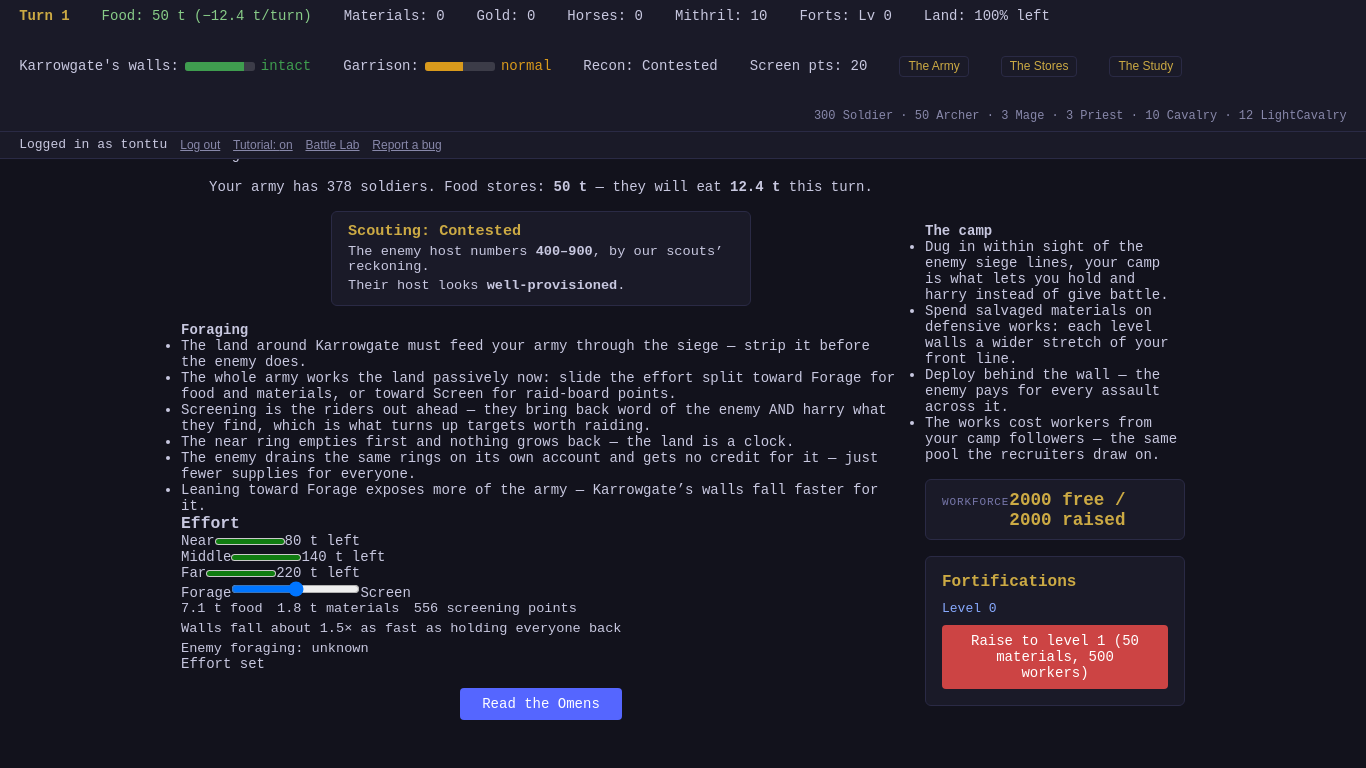
raid panel — opportunities › says nothing about the fate while the augury still withholds it
The image size is (1366, 768).
(page scrolled)
Click the button with test id "to-omens". click: (541, 704)
box: x1=460 y1=688 x2=622 y2=720
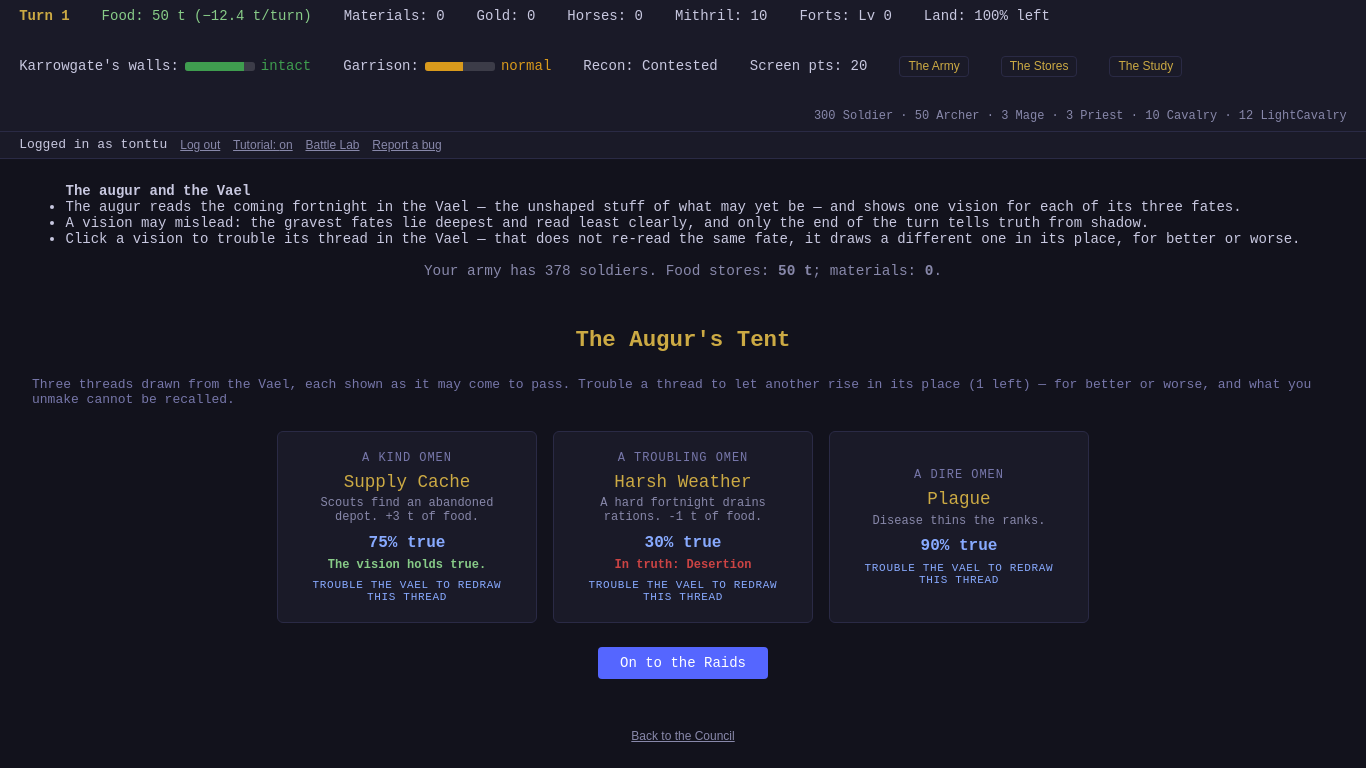
Click the button with test id "augury-continue". click: (683, 663)
box: x1=598 y1=647 x2=768 y2=679
(page scrolled)
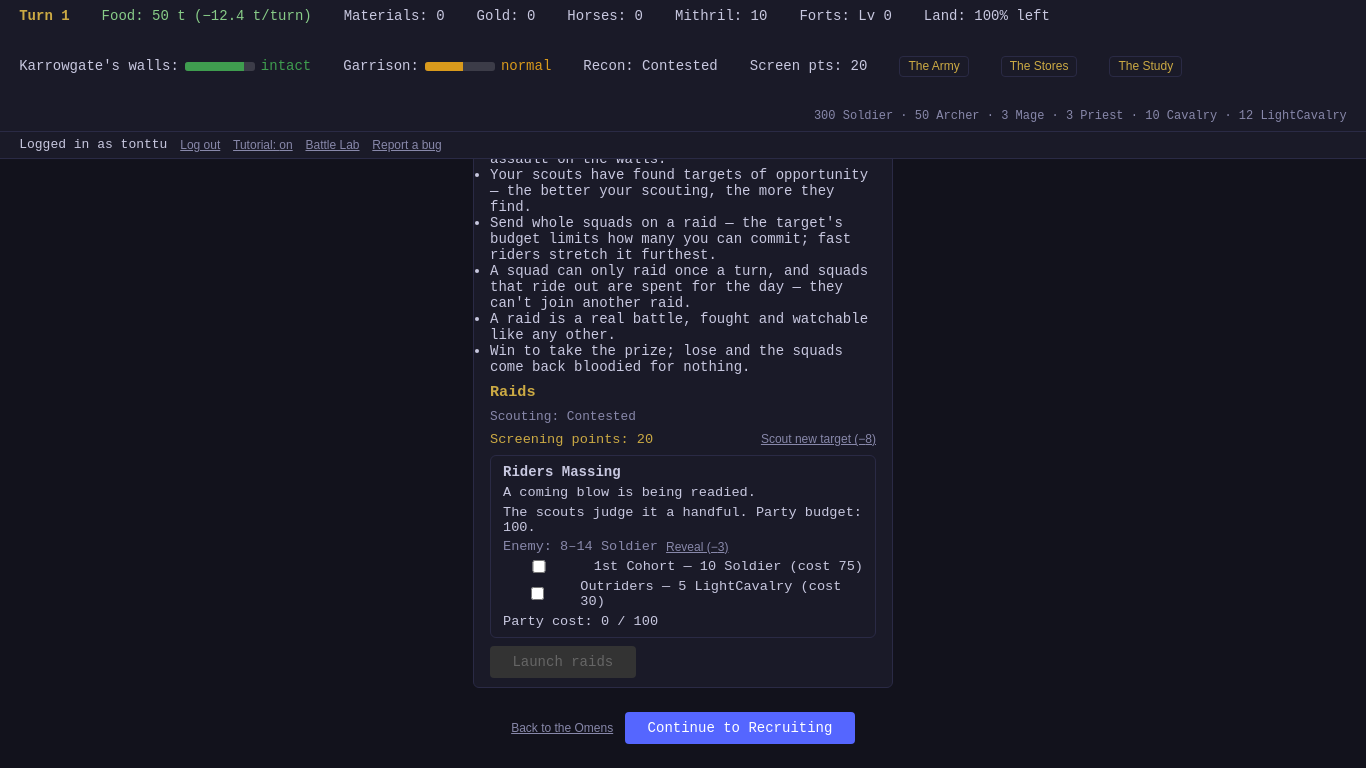
Now the element with test id "raid-card-d1-c" is shown, box x1=490 y1=455 x2=876 y2=638
